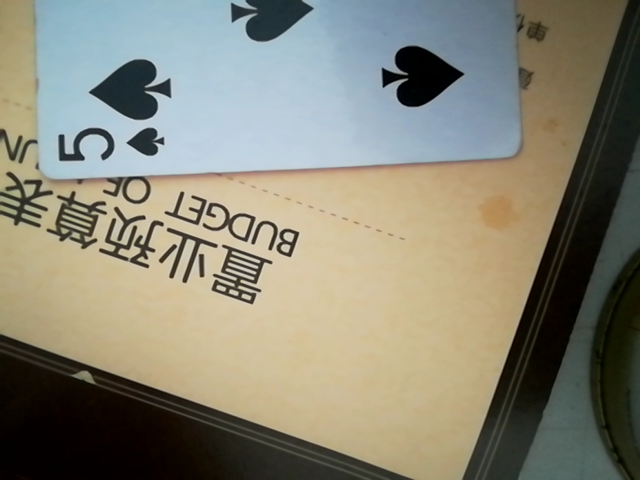ht 5: (22, 0, 535, 185)
